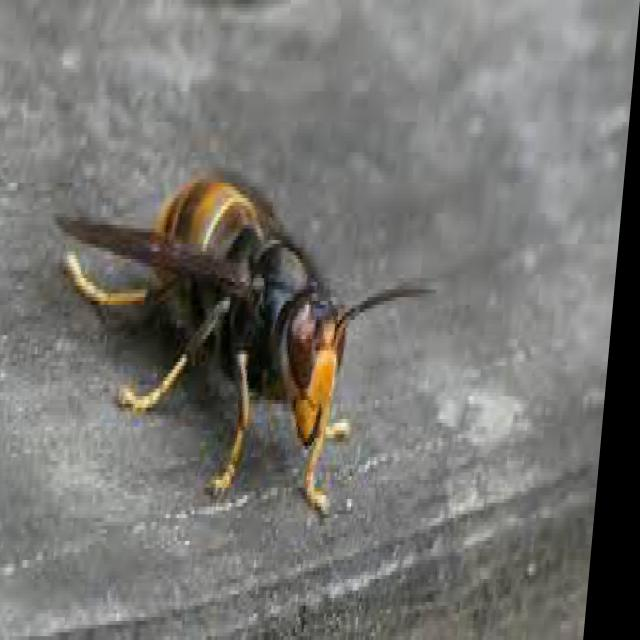Vespa Velutina: (21, 158, 458, 530)
